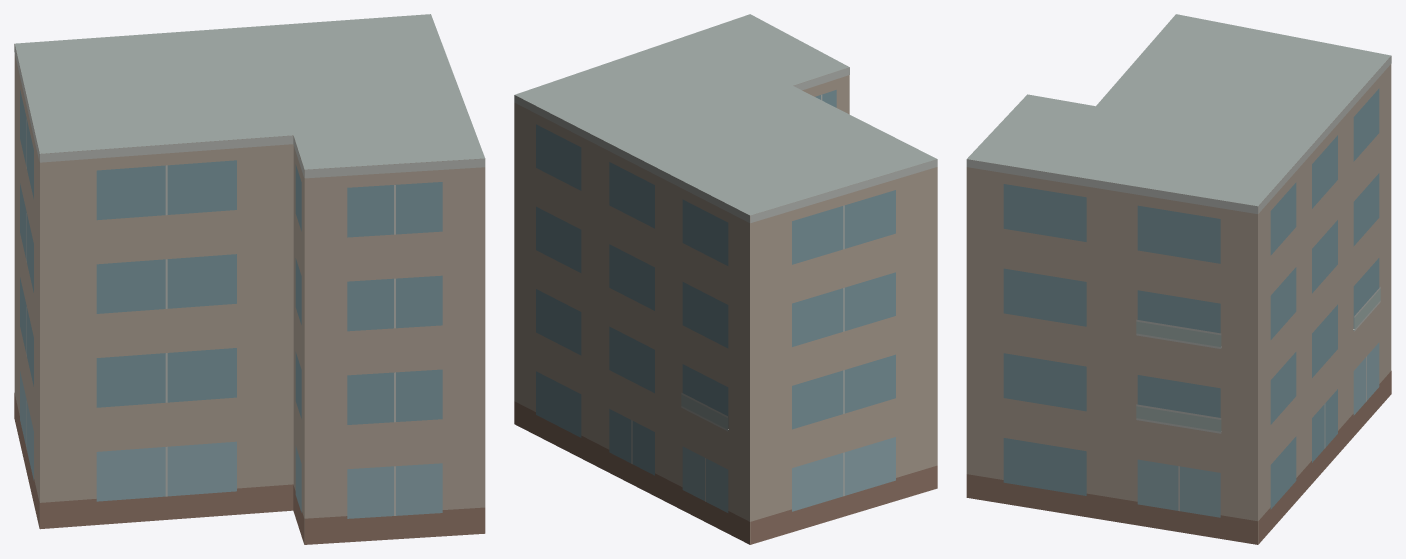
File: survey-upis-32536989.glb
3 views of the same model, side by side, from view 1: azimuth 30°, elevation 25°; view 2: azimuth 150°, elevation 25°; view 3: azimuth 270°, elevation 25° (orthographic). The views are drawn at different scales.
Parts seen in each view (by area): view 1: survey-upis-32536989.tmp; view 2: survey-upis-32536989.tmp; view 3: survey-upis-32536989.tmp.
Part boxes in pixels (x1,y1,x2,y2): survey-upis-32536989.tmp: [14, 14, 485, 544]; survey-upis-32536989.tmp: [514, 14, 937, 544]; survey-upis-32536989.tmp: [966, 14, 1391, 544].
Size of the model in its own units: 12.68 by 10.4 by 11.84.
